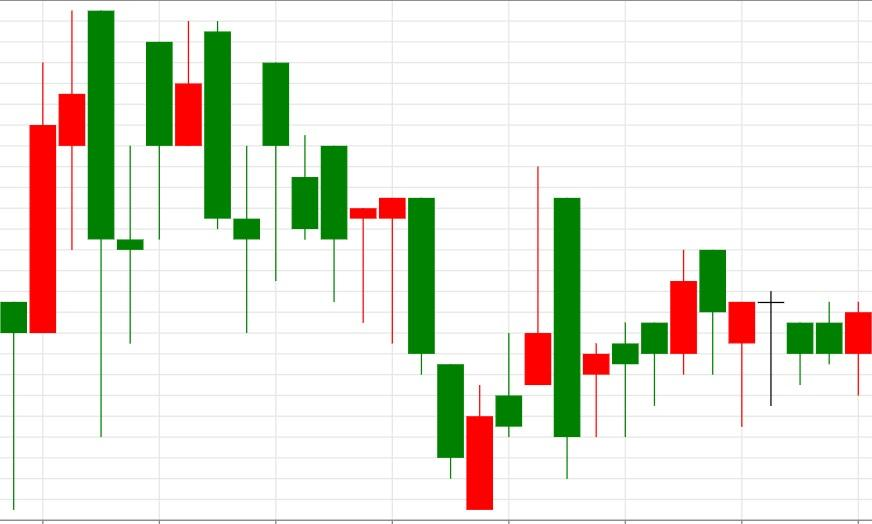bearish_engulfing_fall: (0, 11, 114, 510), (115, 21, 231, 345)
